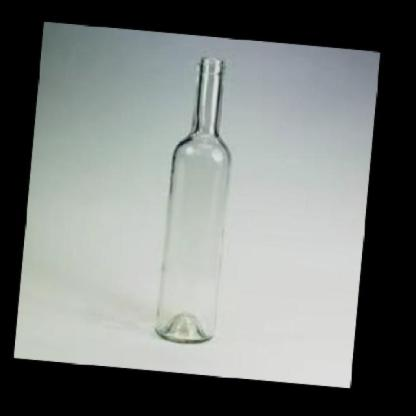Can: (152, 57, 232, 344)
